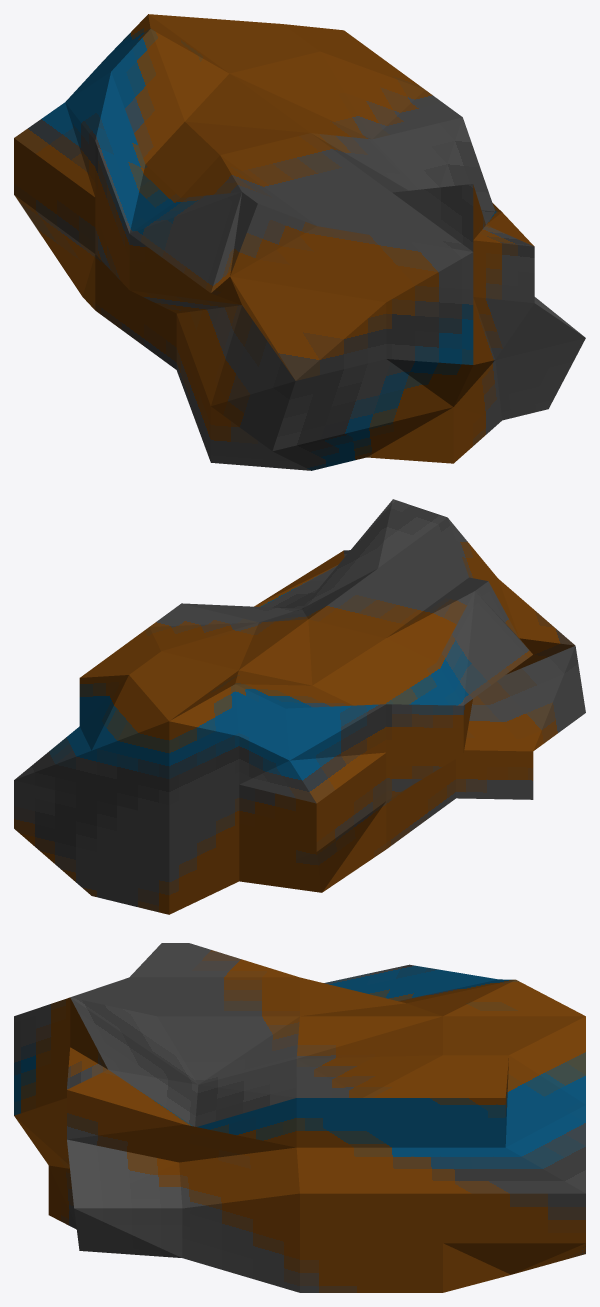
The model's file is ObjectIronOre.dae.
The picture shows the model from 3 angles, top to bottom: view 1: azimuth 30°, elevation 25°; view 2: azimuth 150°, elevation 25°; view 3: azimuth 270°, elevation 25°; orthographic projection. The views are drawn at different scales.
Visible parts, largest first — view 1: Cube; view 2: Cube; view 3: Cube.
Part boxes in pixels (x1,y1,x2,y2): Cube: (14, 14, 585, 470); Cube: (14, 499, 585, 914); Cube: (14, 943, 585, 1292).
Bounding box in the file's own units: 0.6237 × 0.9692 × 0.4326.
Materials: 1 (1 with a texture image).
